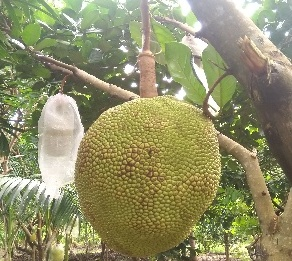Mit: (75, 97, 221, 258)
